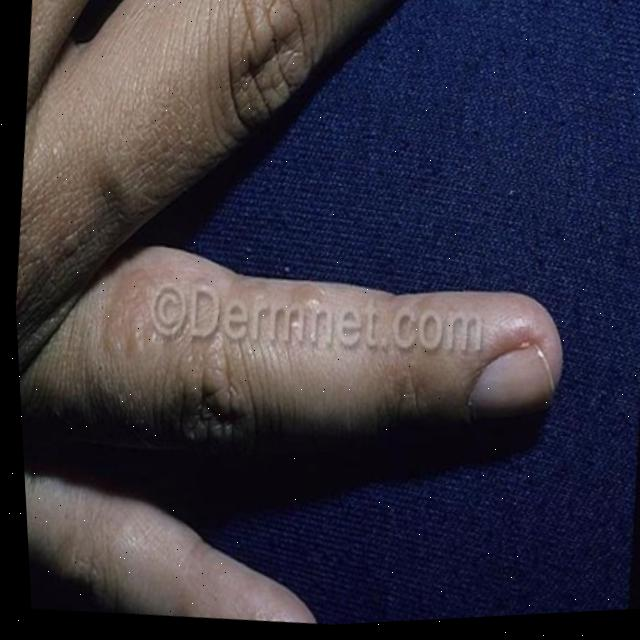Eczema: (91, 253, 239, 367), (271, 304, 376, 341)
